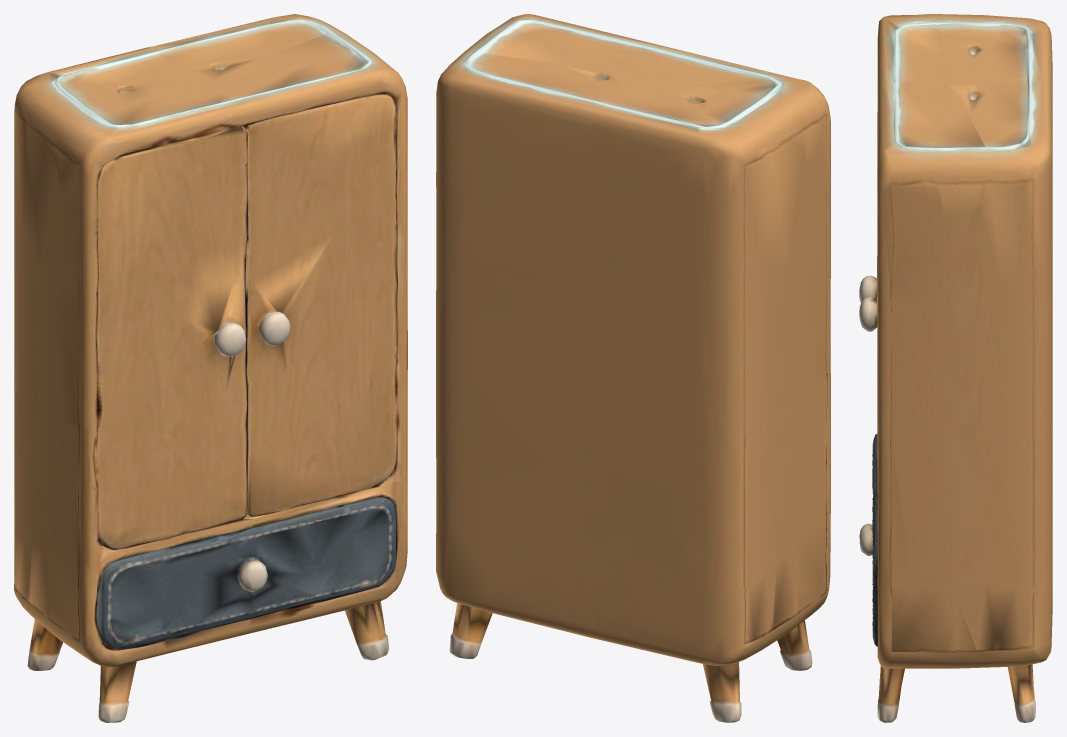
File: wardrobe.low.glb
3 renders of one model, left to right at view 1: azimuth 30°, elevation 25°; view 2: azimuth 150°, elevation 25°; view 3: azimuth 270°, elevation 25°, orthographic. The views are drawn at different scales.
Parts seen in each view (by area): view 1: tripo_node_705cc698-275d-47ad-b365-2ff6685e04ab; view 2: tripo_node_705cc698-275d-47ad-b365-2ff6685e04ab; view 3: tripo_node_705cc698-275d-47ad-b365-2ff6685e04ab.
Part boxes in pixels (x1=…): tripo_node_705cc698-275d-47ad-b365-2ff6685e04ab: x1=14, y1=14, x2=407, y2=722; tripo_node_705cc698-275d-47ad-b365-2ff6685e04ab: x1=436, y1=14, x2=830, y2=722; tripo_node_705cc698-275d-47ad-b365-2ff6685e04ab: x1=859, y1=14, x2=1052, y2=722.
Bounding box in the file's own units: 1.1 × 1.9 × 0.5797.
1 material, 1 textured.
